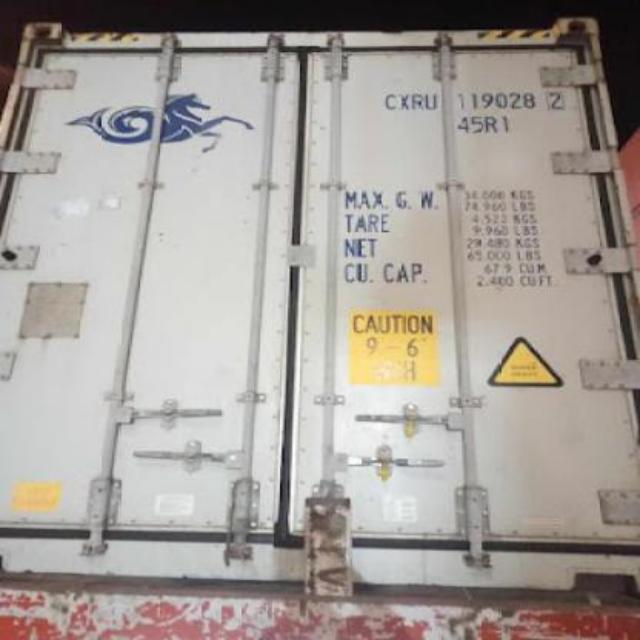0: (496, 92, 509, 110)
1: (470, 93, 480, 111), (458, 92, 466, 112)
2: (548, 92, 562, 110), (511, 92, 524, 110)
8: (522, 94, 540, 110)
9: (480, 92, 492, 110)
C: (386, 92, 398, 112)
R: (412, 92, 424, 112)
U: (426, 94, 436, 110)
X: (398, 91, 410, 112)
